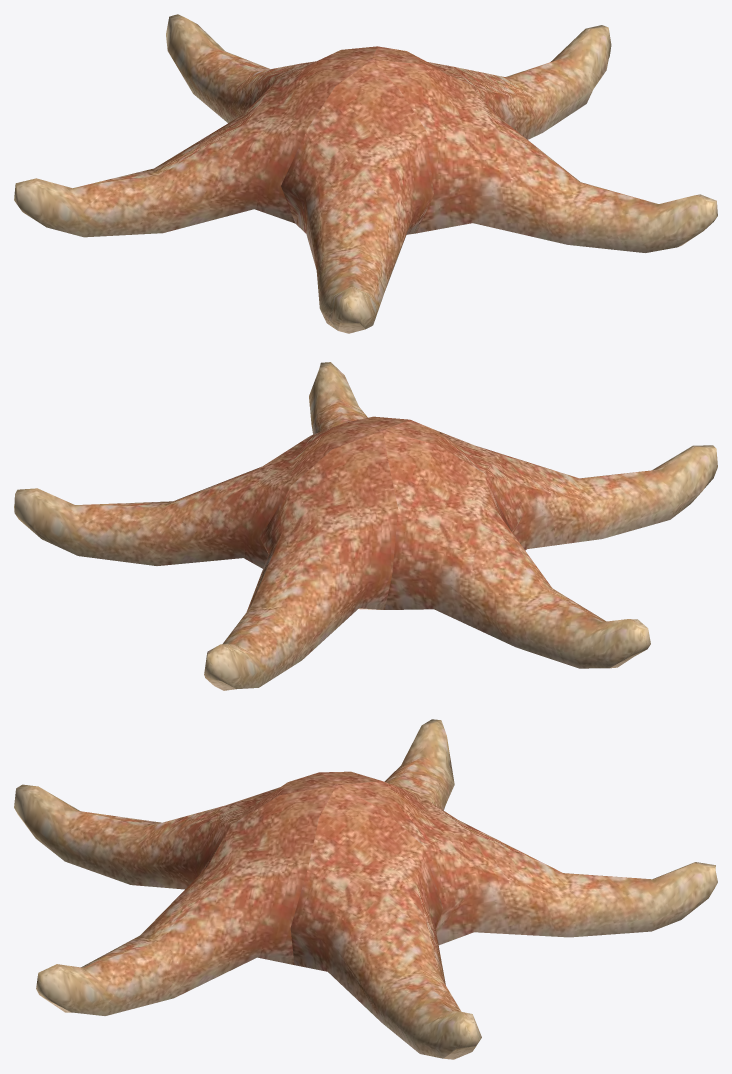
File: starfish_01.glb
The picture shows the model from 3 angles, top to bottom: view 1: azimuth 30°, elevation 25°; view 2: azimuth 150°, elevation 25°; view 3: azimuth 270°, elevation 25°; orthographic projection. The views are drawn at different scales.
Parts seen in each view (by area): view 1: starfish_01; view 2: starfish_01; view 3: starfish_01.
Boxes of the visible parts, box(x1,y1,x2,y2) form: starfish_01: box(14, 14, 717, 333); starfish_01: box(14, 362, 717, 690); starfish_01: box(14, 719, 717, 1059).
Size of the model in its own units: 0.2907 by 0.0638 by 0.2818.
Materials: 1 (1 with a texture image).
